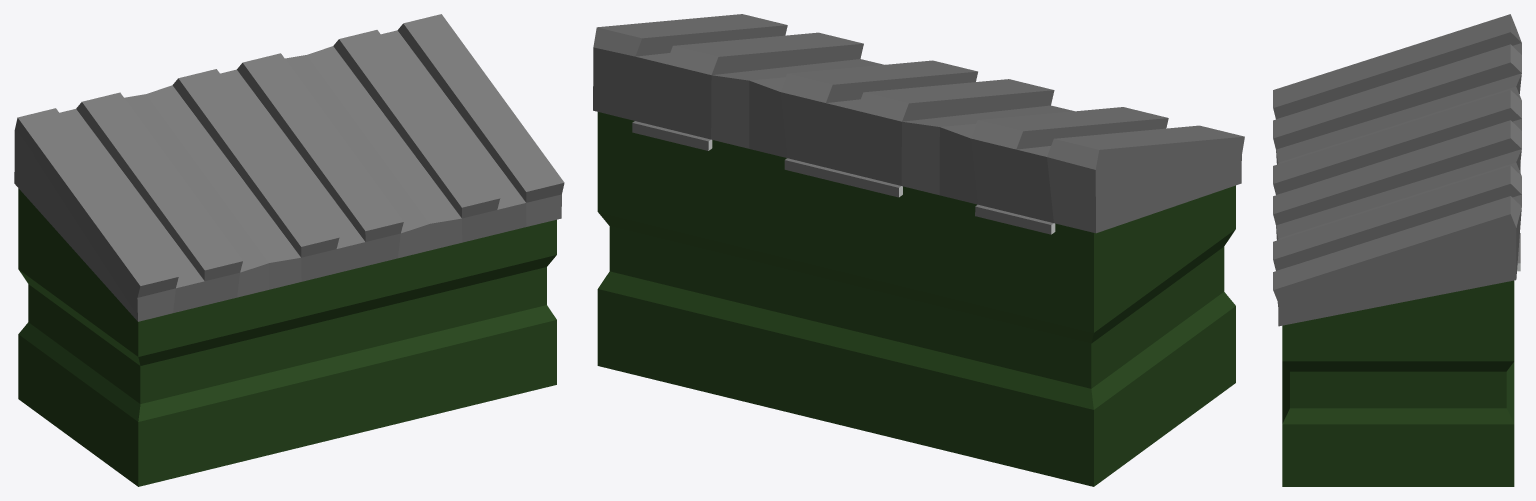
The model's file is Dumpster 2.fbx.
3 renders of one model, left to right at view 1: azimuth 30°, elevation 25°; view 2: azimuth 150°, elevation 25°; view 3: azimuth 270°, elevation 25°, orthographic. The views are drawn at different scales.
Visible parts, largest first — view 1: dustbin.003, Dumpster 2; view 2: Dumpster 2, dustbin.003; view 3: dustbin.003, Dumpster 2.
Boxes of the visible parts, x1,y1,x2,y2 form: dustbin.003: [14, 14, 564, 321]; Dumpster 2: [18, 188, 556, 486]; Dumpster 2: [597, 112, 1235, 486]; dustbin.003: [593, 14, 1244, 234]; dustbin.003: [1273, 14, 1521, 326]; Dumpster 2: [1282, 280, 1514, 486].
Bounding box in the file's own units: 2.03 × 1.07 × 1.3.
